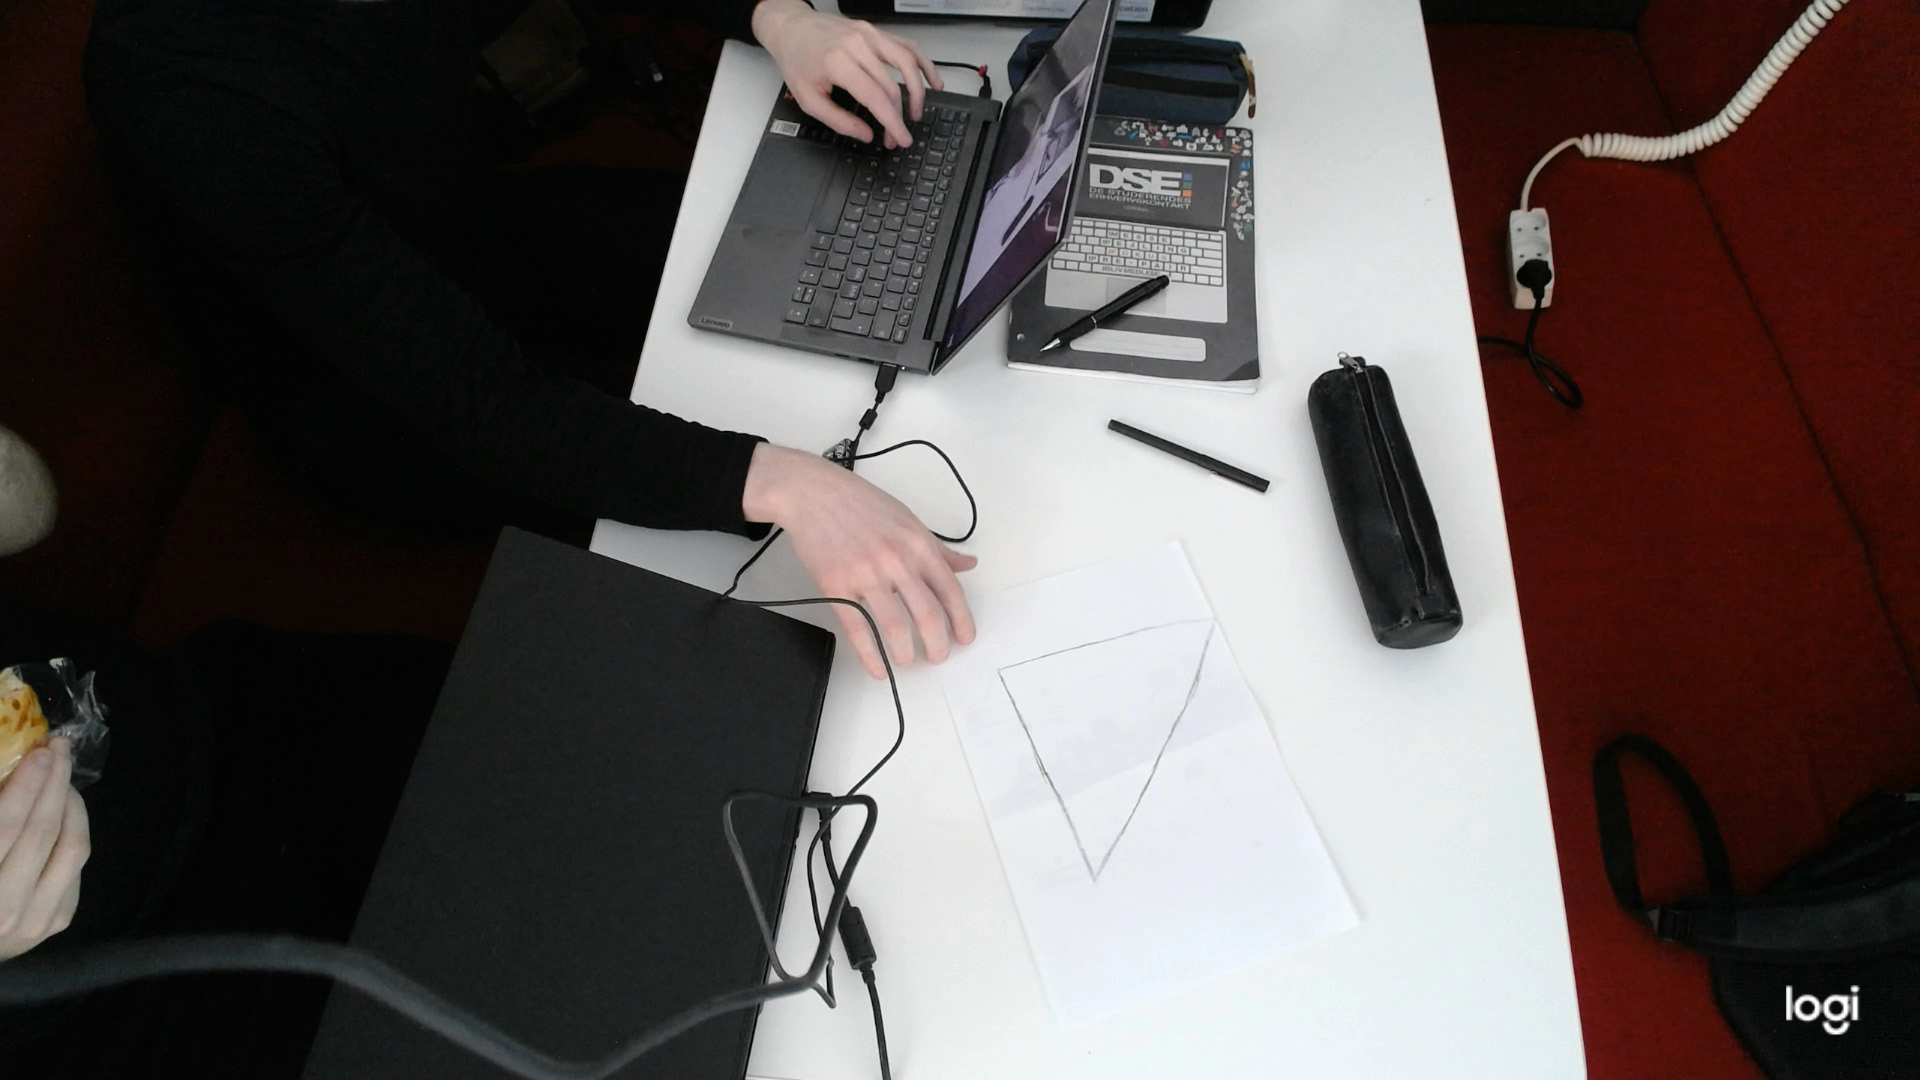Triangle: (996, 615, 1218, 887)
